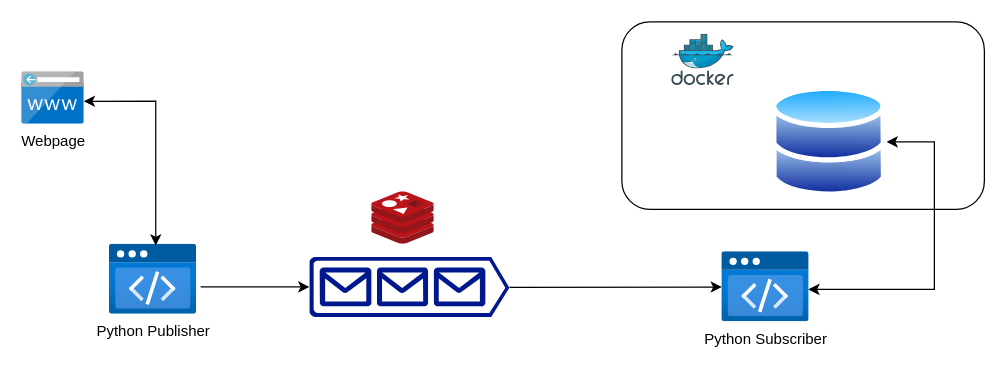
This 1006x370 diagram has some shape labels left out. Each missing label, with the box of its shape:
Mongo DB: (771, 85, 886, 198)
Redis Queue: (309, 256, 509, 316)
